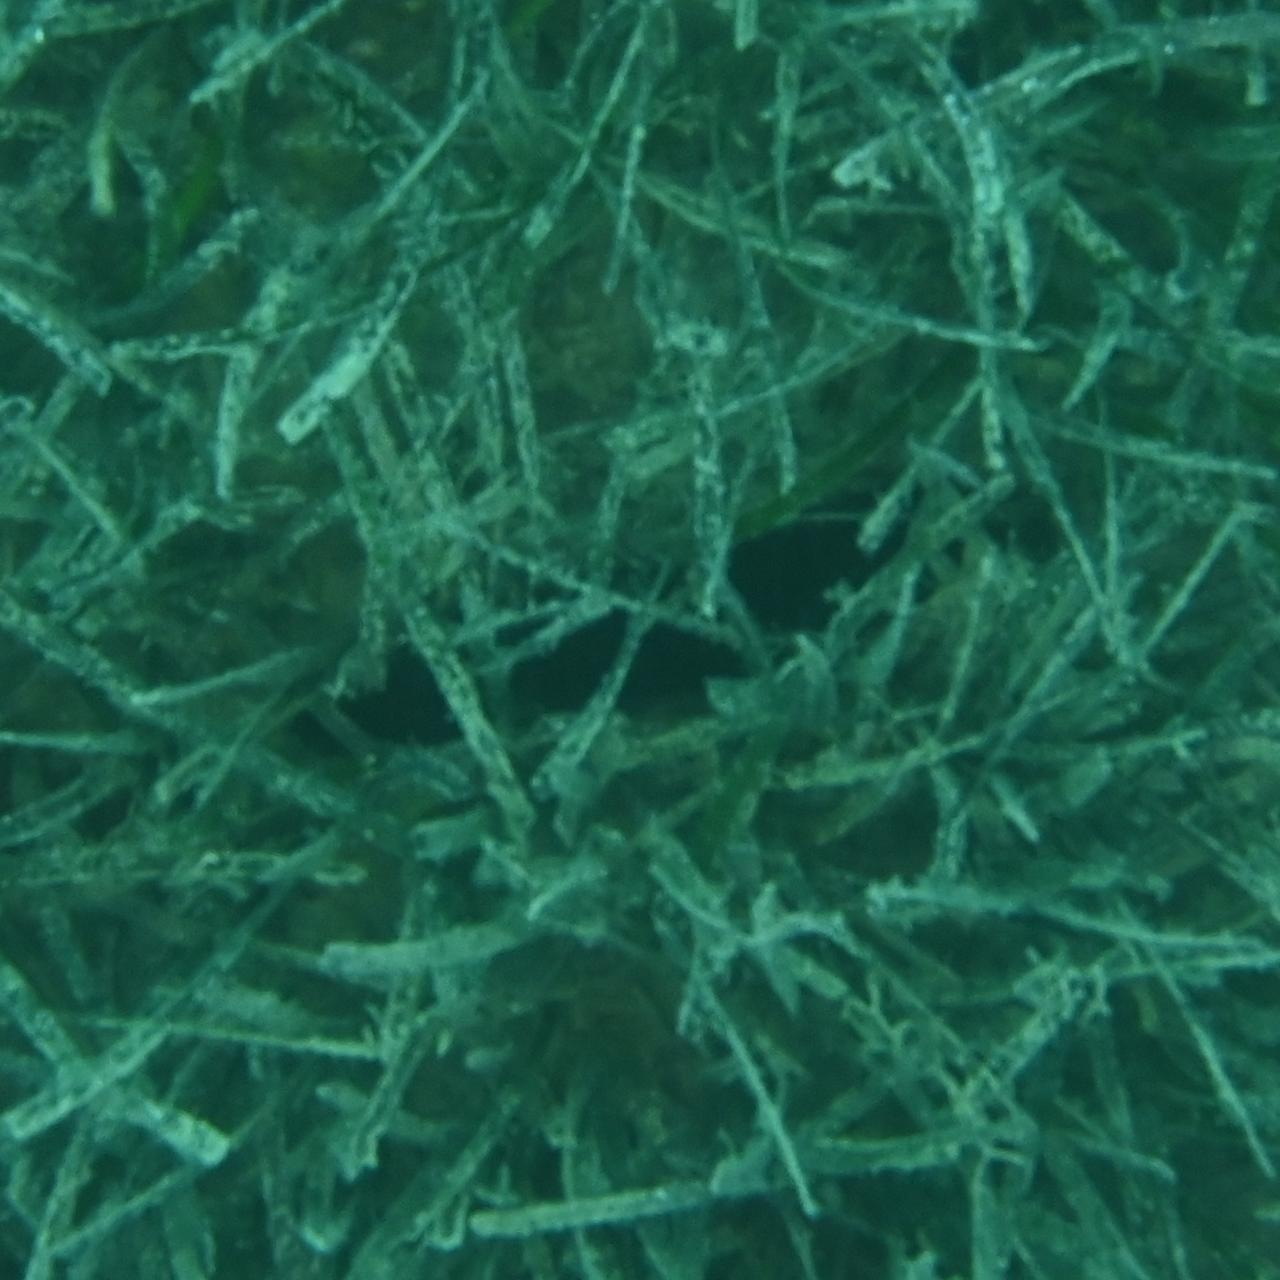Holothuria tubulosa: (272, 496, 1008, 784)
